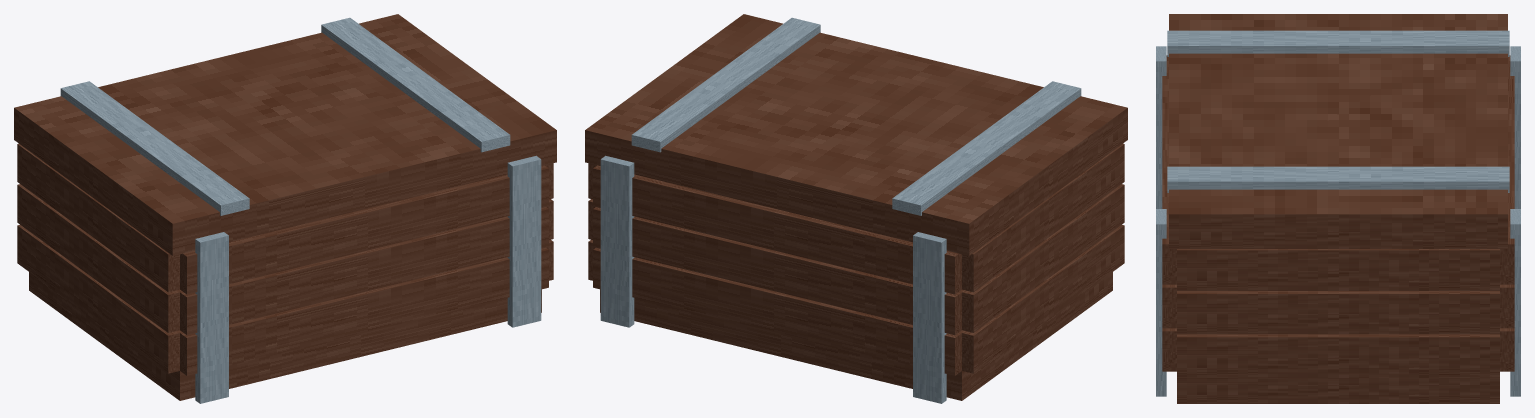
Rendered from wooden-crate.glb.
3 renders of one model, left to right at view 1: azimuth 30°, elevation 25°; view 2: azimuth 150°, elevation 25°; view 3: azimuth 270°, elevation 25°, orthographic. The views are drawn at different scales.
Parts seen in each view (by area): view 1: lid, side board (×3), end board (×3), lid strap (×2), corner strap (×2), bottom; view 2: lid, side board (×3), end board (×3), lid strap (×2), corner strap (×2), bottom; view 3: lid, end board (×3), lid strap (×2), bottom, side board (×6), corner strap (×4).
Boxes of the visible parts, <box> form: lid: <box>14,14,556,255</box>; side board (×3): <box>177,165,548,375</box>; end board (×3): <box>17,143,182,373</box>; lid strap (×2): <box>60,17,510,215</box>; corner strap (×2): <box>195,155,541,403</box>; bottom: <box>29,272,541,400</box>; lid: <box>585,14,1127,255</box>; side board (×3): <box>593,165,964,375</box>; end board (×3): <box>959,143,1124,373</box>; lid strap (×2): <box>631,17,1081,215</box>; corner strap (×2): <box>600,155,946,403</box>; bottom: <box>600,272,1112,400</box>; lid: <box>1169,14,1507,248</box>; end board (×3): <box>1177,249,1499,377</box>; lid strap (×2): <box>1167,30,1509,192</box>; bottom: <box>1177,378,1499,403</box>; side board (×6): <box>1162,55,1514,371</box>; corner strap (×4): <box>1156,46,1520,396</box>.
Size of the model in its own units: 1.15 by 0.542 by 0.882.
Materials: 2 (2 with a texture image).
